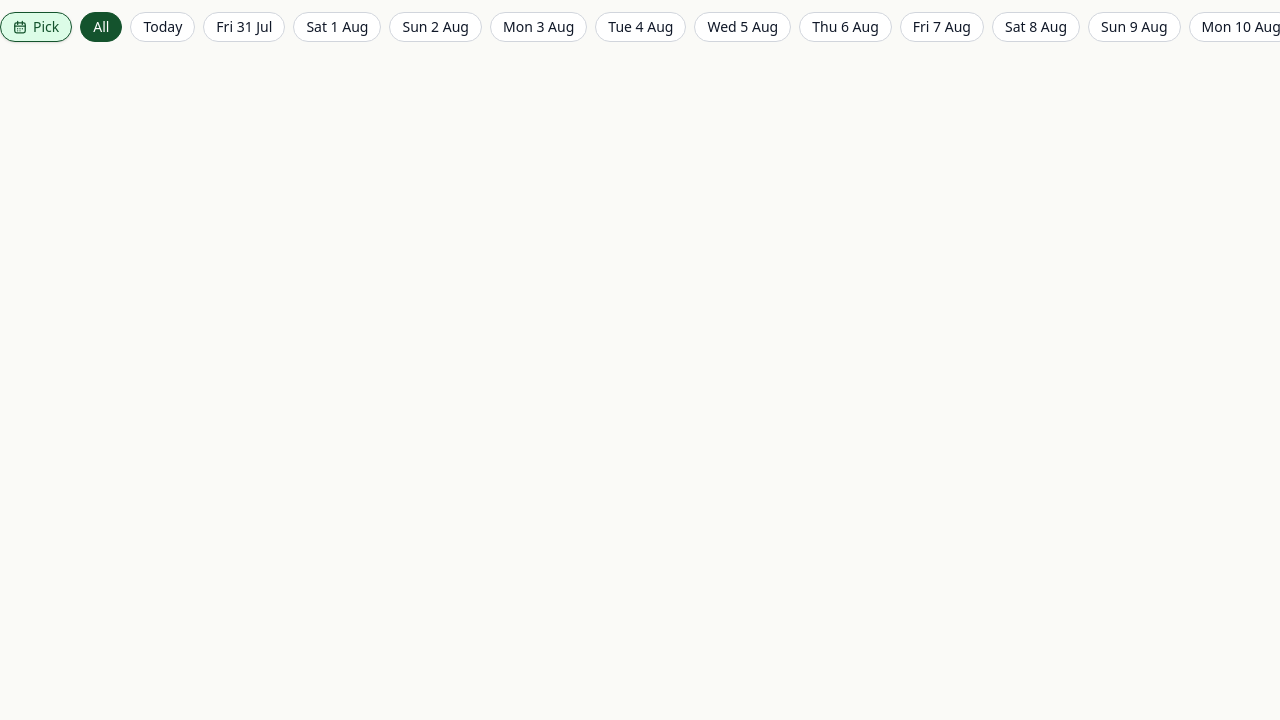
Test: DateStrip › opens a calendar sheet on Pick; a single tap lights up that day and offers to use it, without navigating yet
Click the button "Pick" at point(36, 27), box [0,12,72,42]
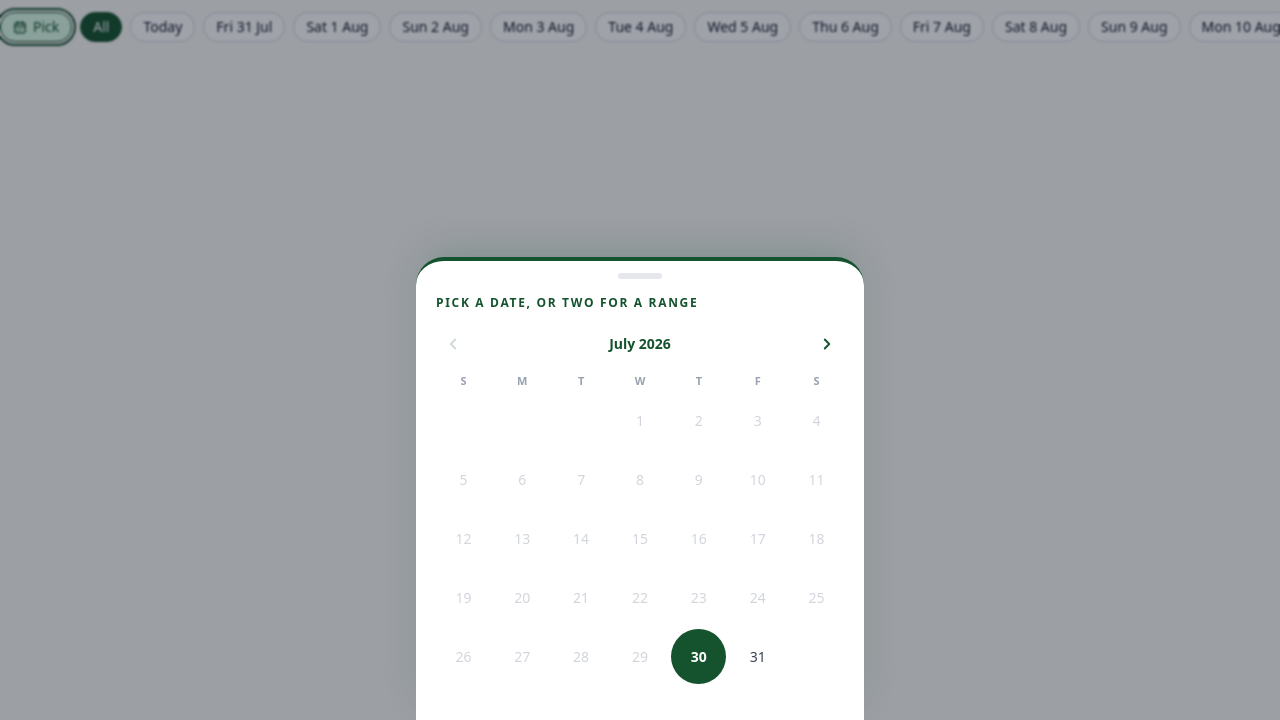
Check: the dialog "Pick a date, or two for a range" is shown
Click the button "30" at point(699, 657), box [671,629,726,684]
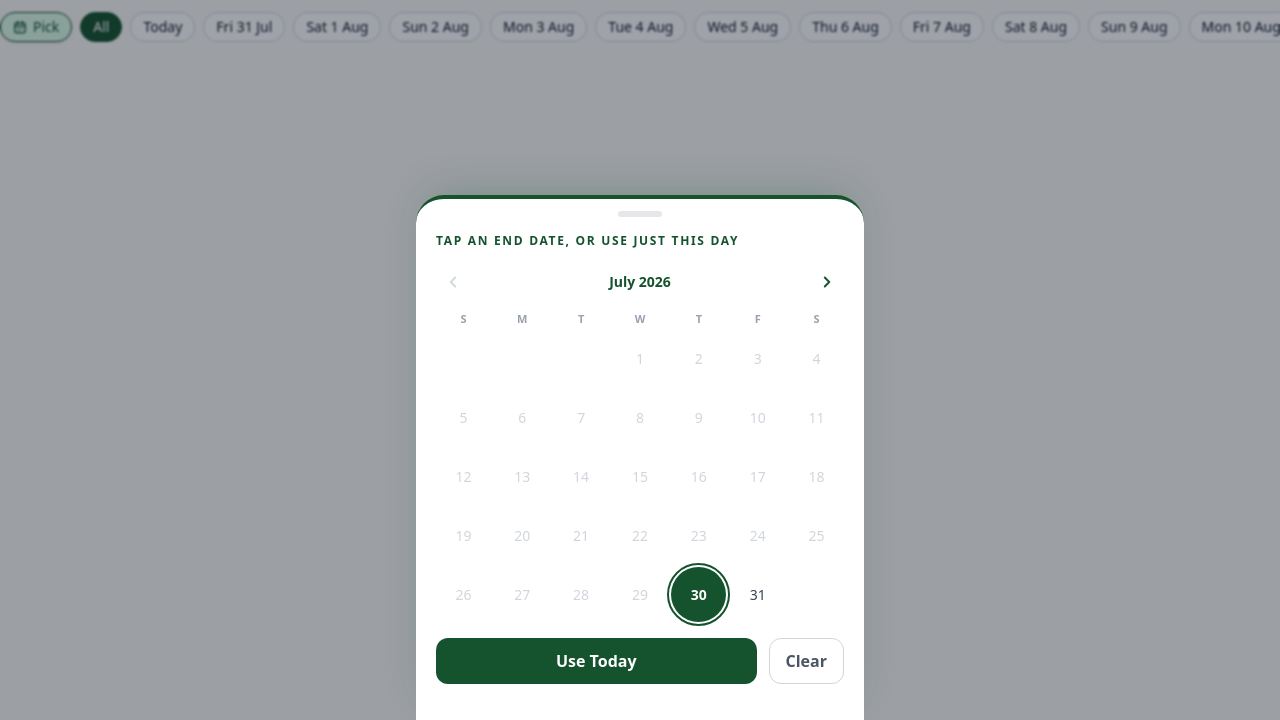
Check: the dialog "Tap an end date, or use just this day" is shown
Check: the button "Use Today" is shown, box [436,638,756,684]
